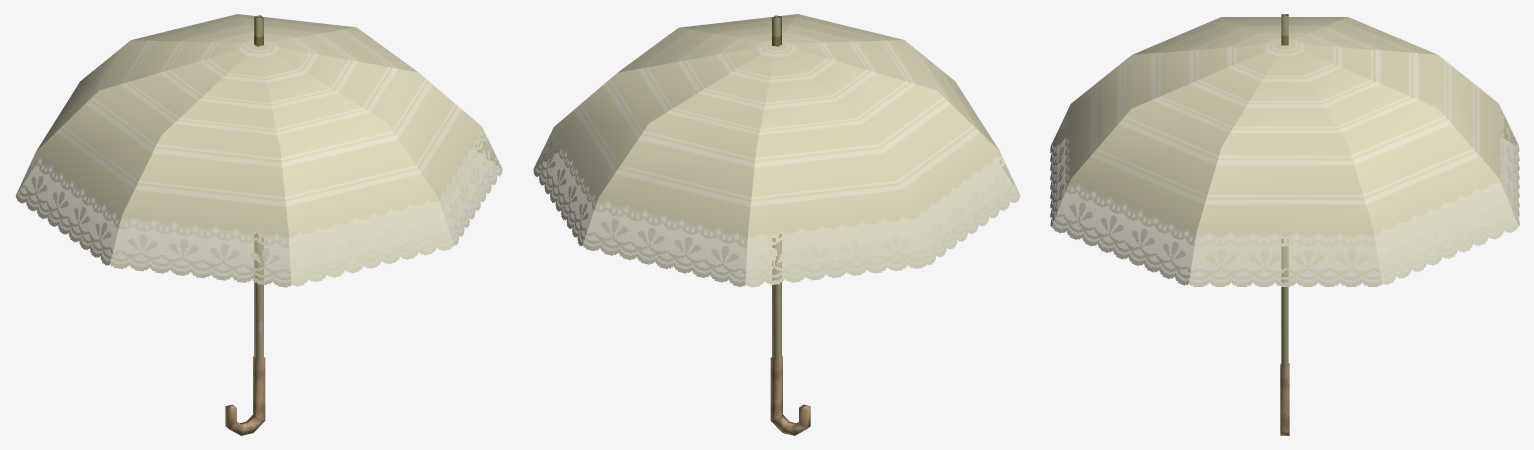
File: 03f6_Parasol.glb
3 renders of one model, left to right at view 1: azimuth 30°, elevation 25°; view 2: azimuth 150°, elevation 25°; view 3: azimuth 270°, elevation 25°, orthographic. The views are drawn at different scales.
Parts seen in each view (by area): view 1: part_0; view 2: part_0; view 3: part_0.
Boxes of the visible parts, x1,y1,x2,y2 form: part_0: (15,14,502,435); part_0: (533,14,1020,435); part_0: (1050,14,1519,435).
Bounding box in the file's own units: 1.24 × 1.24 × 1.24.
Materials: 1 (1 with a texture image).
